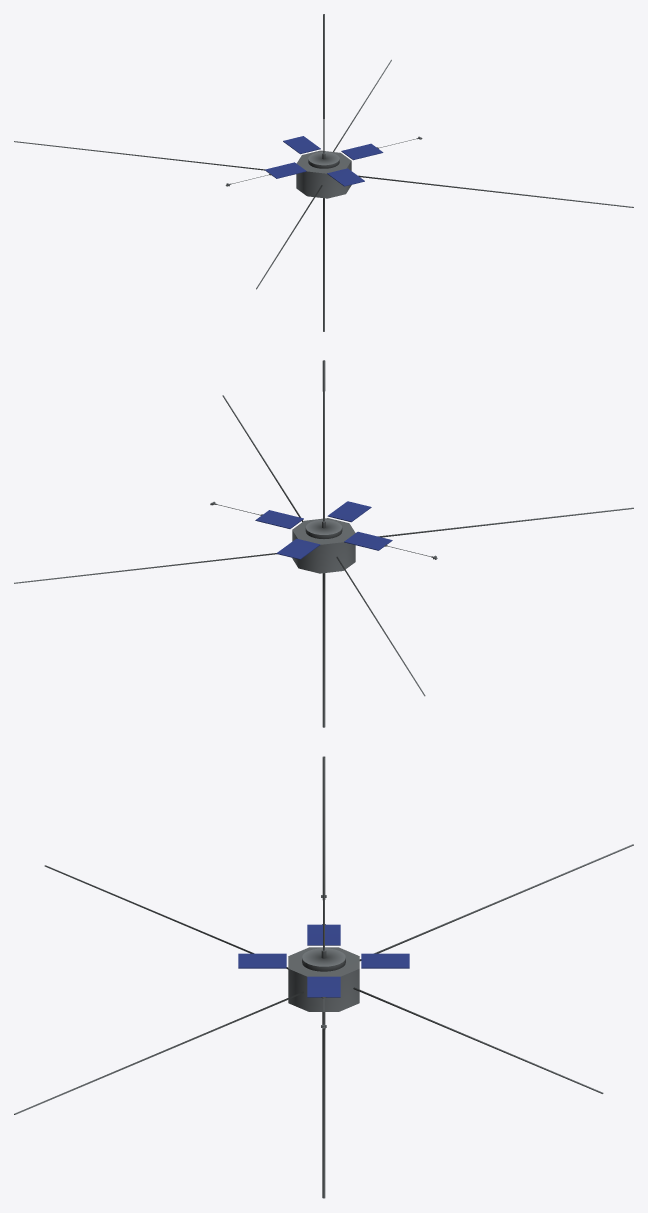
File: space-spacecraft-space-probe_v5.fbx
3 renders of one model, top to bottom at view 1: azimuth 30°, elevation 25°; view 2: azimuth 150°, elevation 25°; view 3: azimuth 270°, elevation 25°, orthographic. The views are drawn at different scales.
Visible parts, largest first — view 1: Space Probe_v5; view 2: Space Probe_v5; view 3: Space Probe_v5.
Part boxes in pixels (x1=…): Space Probe_v5: x1=14, y1=14, x2=633, y2=331; Space Probe_v5: x1=14, y1=360, x2=633, y2=727; Space Probe_v5: x1=14, y1=756, x2=633, y2=1198.
Size of the model in its own units: 6 by 4.57 by 5.82.
